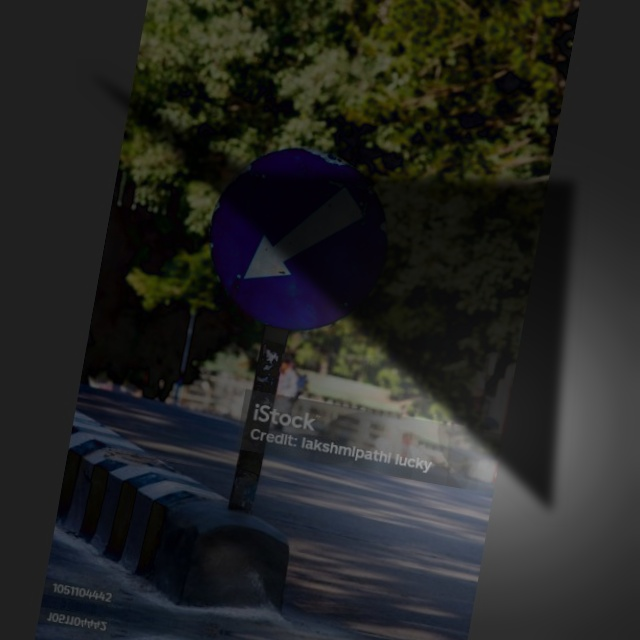Compulsory_Keep_Left: (186, 131, 413, 364)
